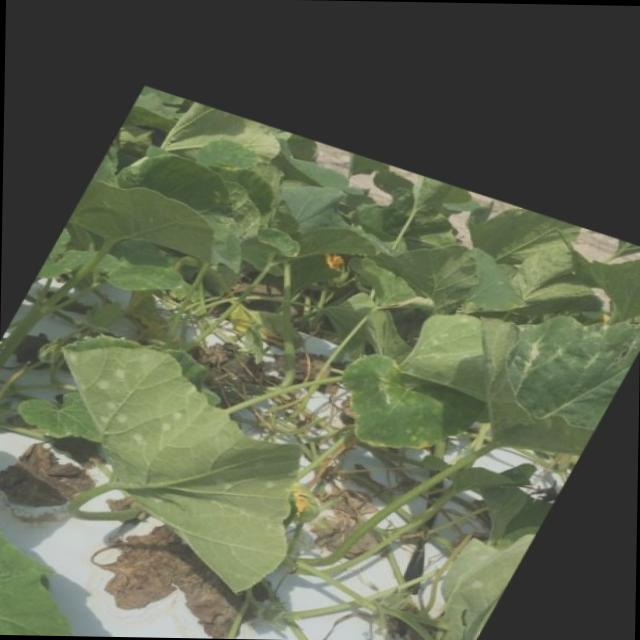Powdery_Mildew: (38, 320, 289, 483), (345, 326, 465, 466)
